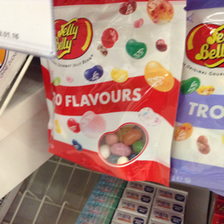candy: (40, 1, 178, 185), (170, 3, 224, 188)
